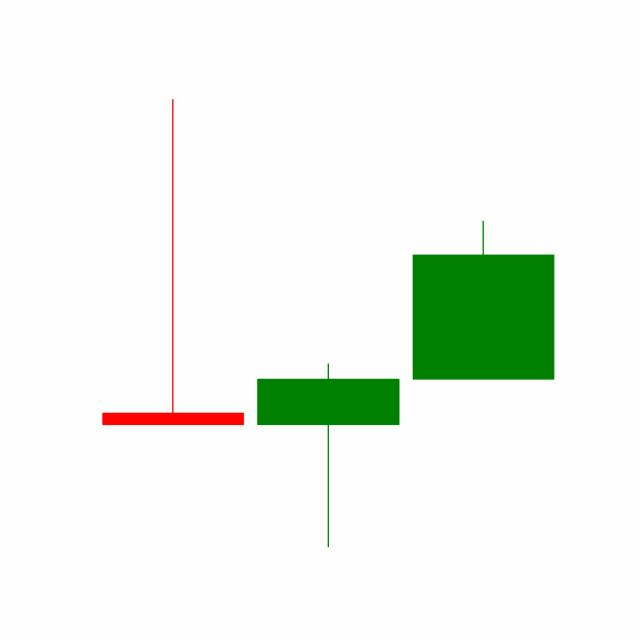Hammer: (249, 360, 406, 549)
